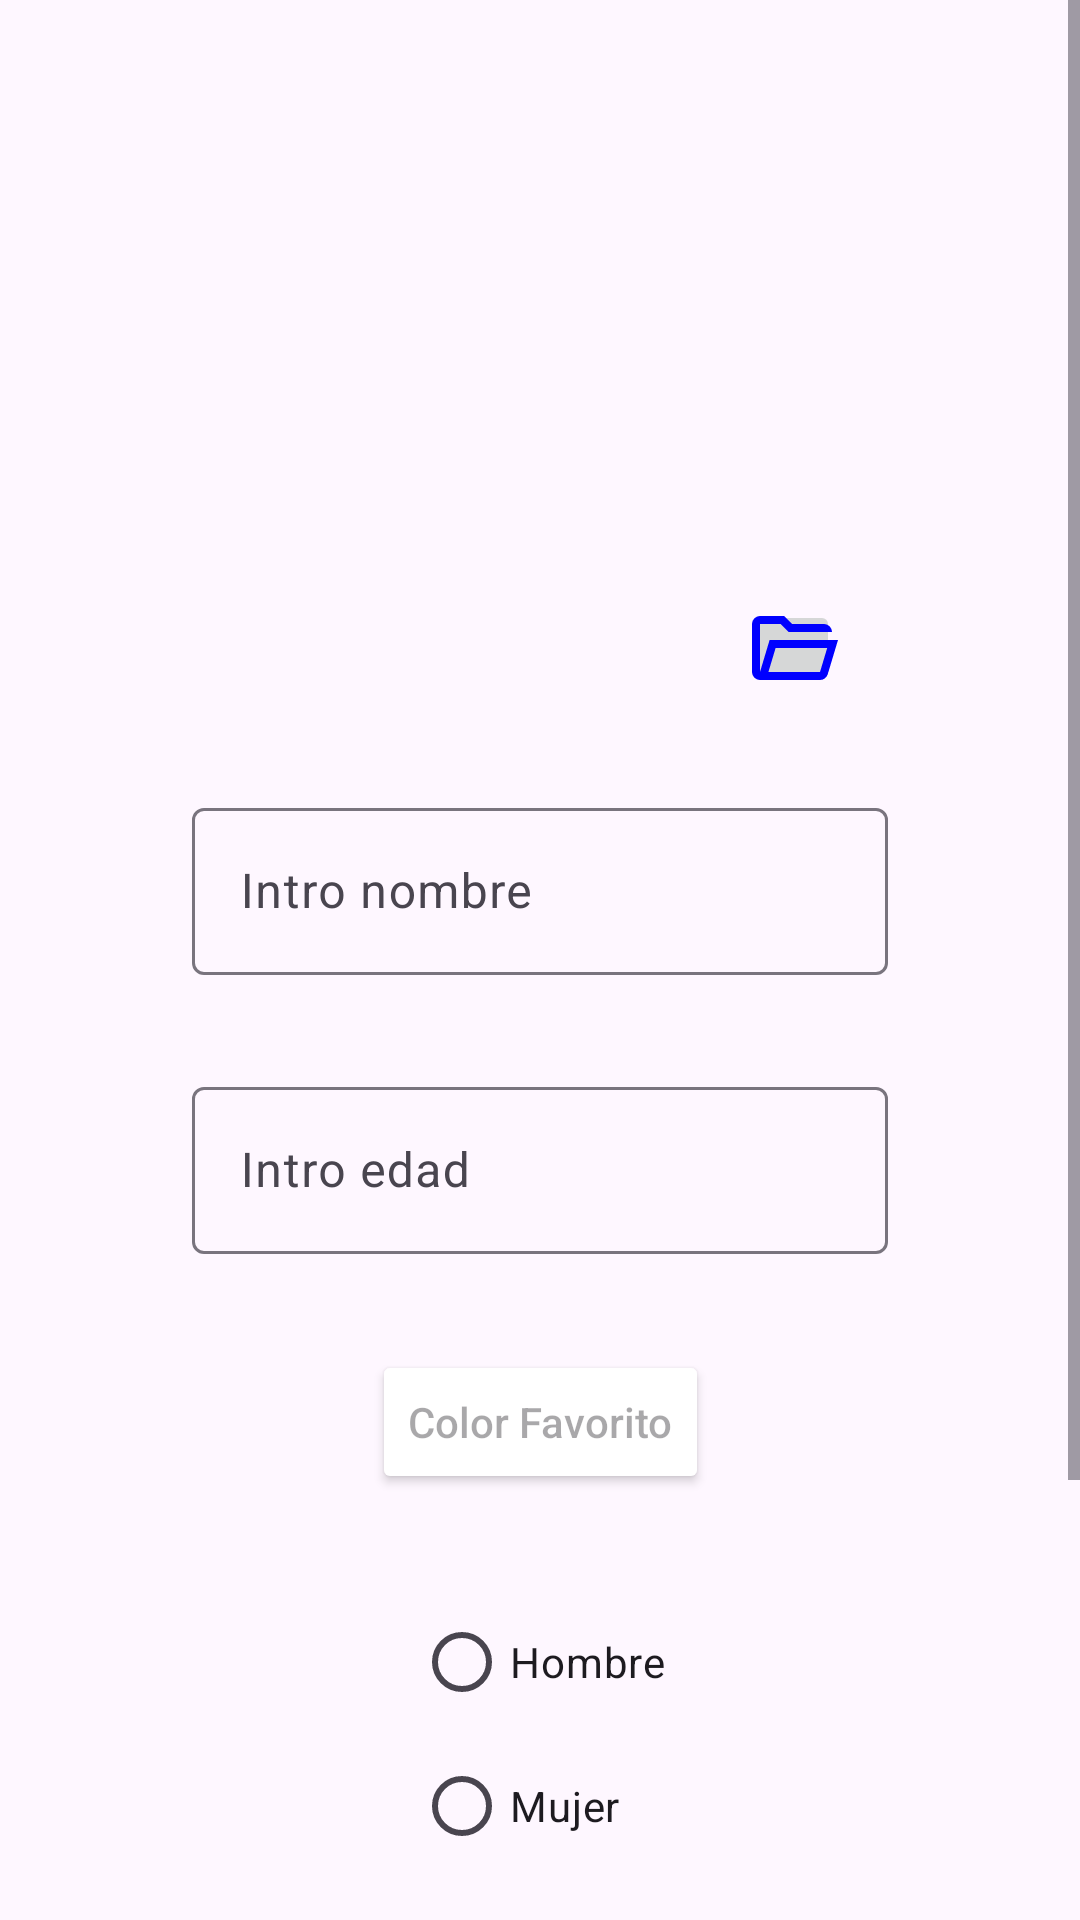

Screen size 1080px×1920px. Icon name, then its center in pixels as point (x, y):
folder open: point (795, 648)
